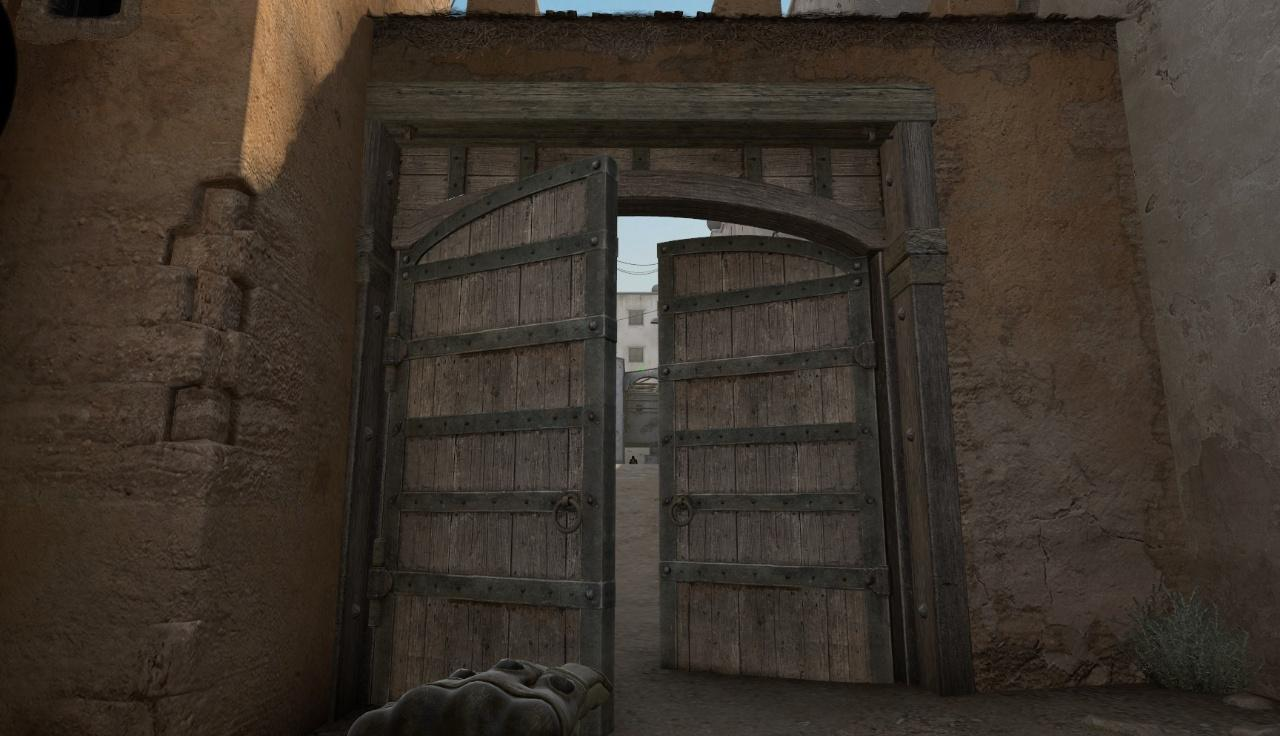tt: (629, 455, 638, 464)
tthead: (632, 456, 635, 459)
